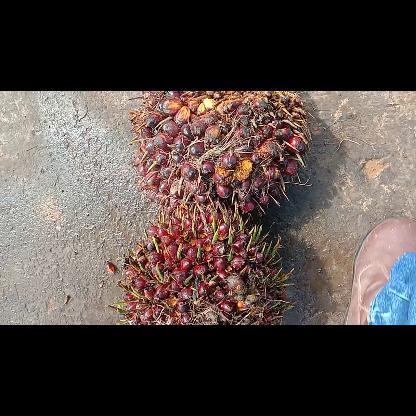Kurang masak: (112, 196, 292, 324)
TBS masak: (129, 91, 311, 213)
